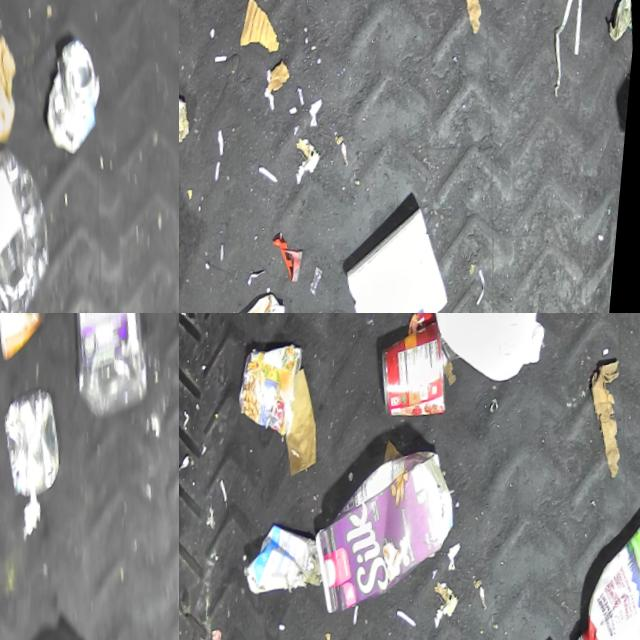can: (38, 34, 114, 173), (230, 342, 314, 447), (373, 323, 455, 430), (0, 387, 73, 505), (0, 313, 59, 369)
milk_jug: (412, 313, 559, 399)
non_white_jug: (305, 444, 471, 619), (563, 511, 640, 640)
plastic_bottle: (0, 140, 77, 313)
